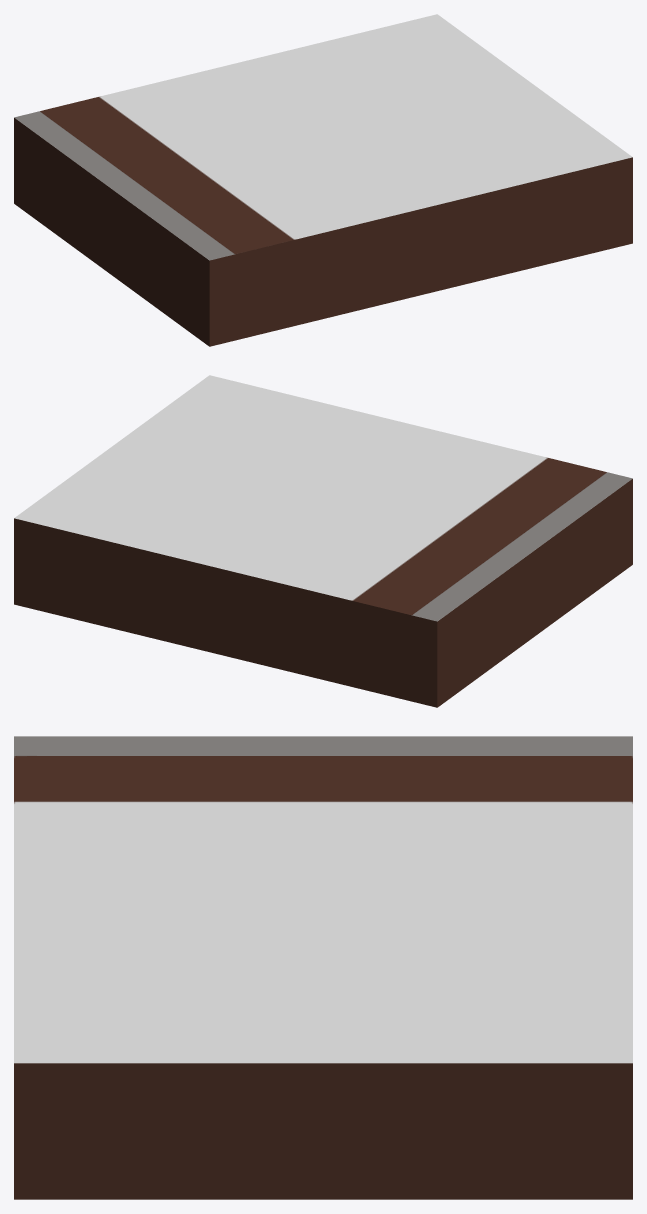
File: MD_Tray_White_Side.fbx
3 renders of one model, top to bottom at view 1: azimuth 30°, elevation 25°; view 2: azimuth 150°, elevation 25°; view 3: azimuth 270°, elevation 25°, orthographic. The views are drawn at different scales.
Parts seen in each view (by area): view 1: Tray_White_Side; view 2: Tray_White_Side; view 3: Tray_White_Side.
Boxes of the visible parts, box(x1,y1,x2,y2) form: Tray_White_Side: box(14, 14, 632, 346); Tray_White_Side: box(14, 375, 632, 707); Tray_White_Side: box(14, 736, 632, 1199).
Size of the model in its own units: 4.38 by 0.8531 by 3.51.
